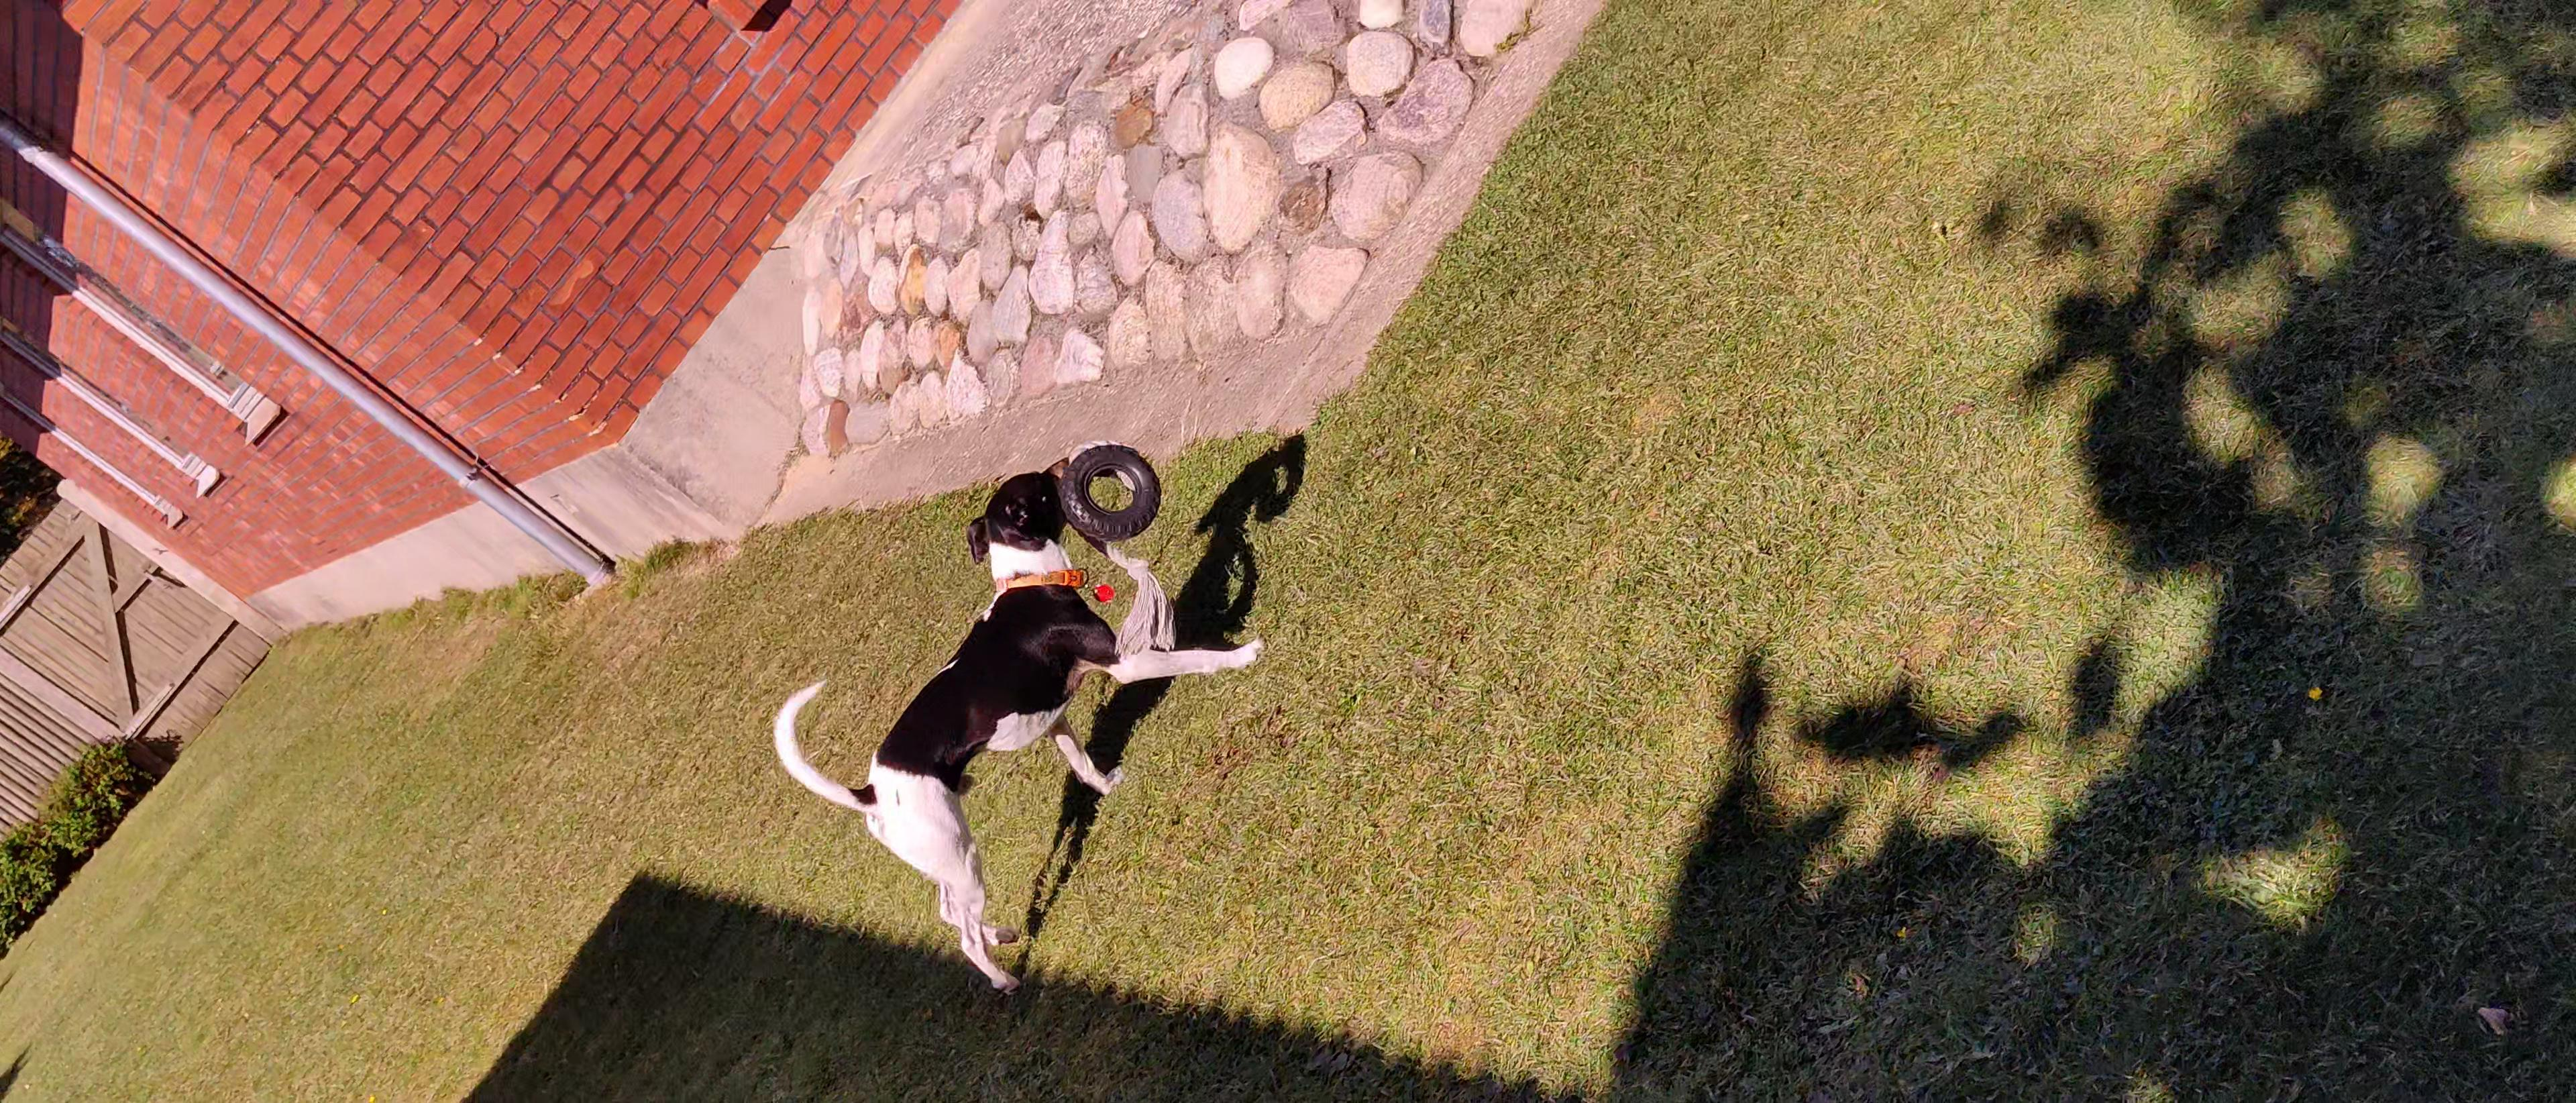Dog: (766, 449, 1265, 991)
